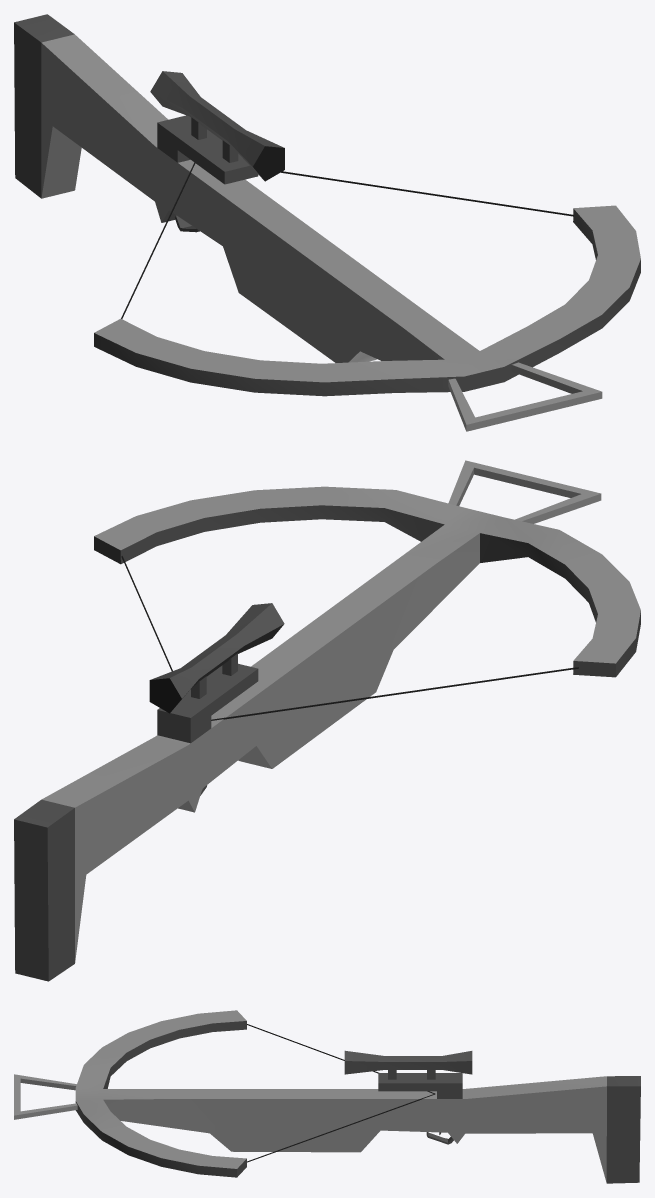
The model's file is crossbowtwo.dae.
The picture shows the model from 3 angles, top to bottom: view 1: azimuth 30°, elevation 25°; view 2: azimuth 150°, elevation 25°; view 3: azimuth 270°, elevation 25°; orthographic projection. The views are drawn at different scales.
Parts seen in each view (by area): view 1: vsn_mesh_0_crossbowtwo; view 2: vsn_mesh_0_crossbowtwo; view 3: vsn_mesh_0_crossbowtwo.
Part boxes in pixels (x1,y1,x2,y2): vsn_mesh_0_crossbowtwo: (14,14,640,431); vsn_mesh_0_crossbowtwo: (14,460,640,981); vsn_mesh_0_crossbowtwo: (14,1010,640,1183).
Size of the model in its own units: 0.5431 by 0.2023 by 0.9068.
1 material, 1 textured.
